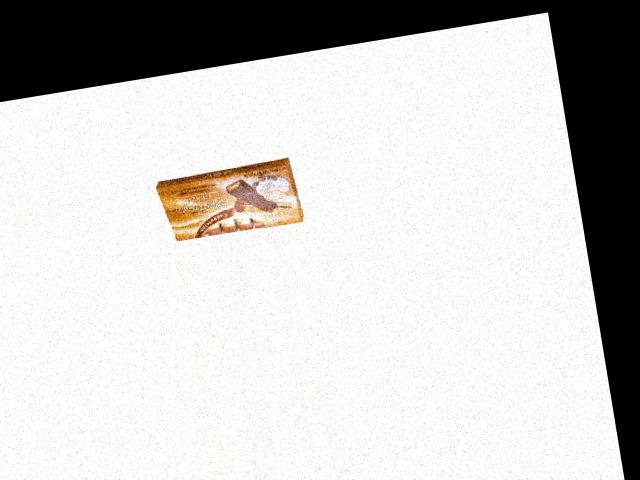chocolate: (151, 156, 305, 245)
